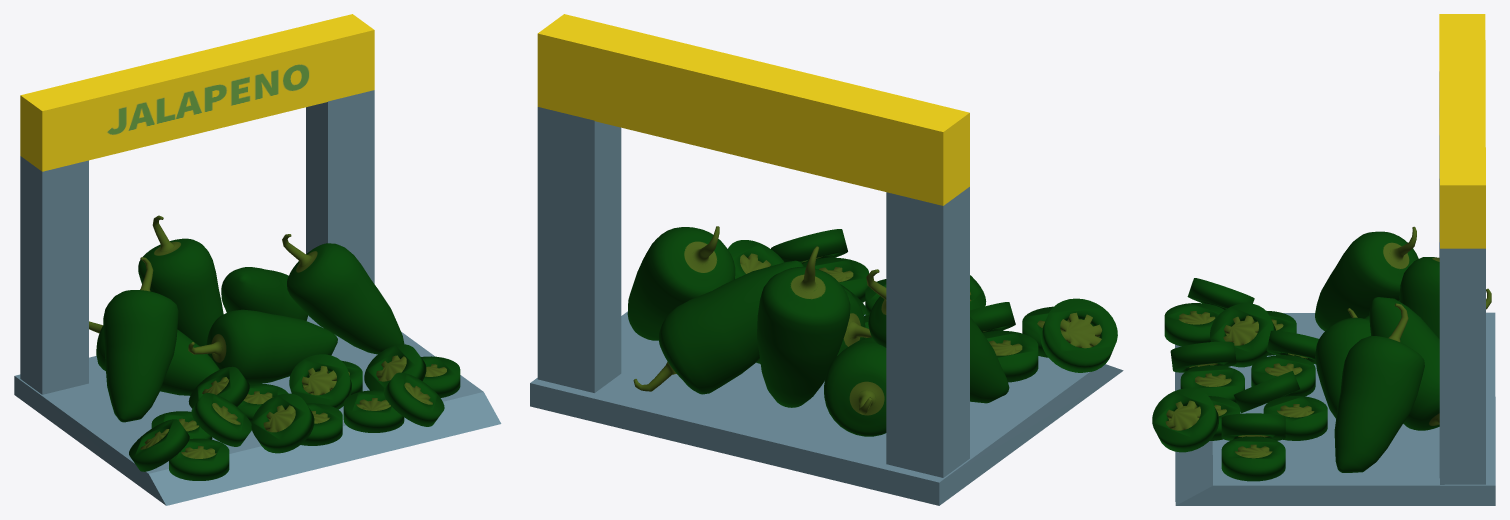
The model's file is Jalapeno.fbx.
The picture shows the model from 3 angles, left to right: view 1: azimuth 30°, elevation 25°; view 2: azimuth 150°, elevation 25°; view 3: azimuth 270°, elevation 25°; orthographic projection. The views are drawn at different scales.
Parts seen in each view (by area): view 1: Cube.036, Jalapeno.007, Jalapeno.006, Jalapeno.002, Jalapeno.004, Jalapeno.005, Cylinder.008, Cylinder.004, Jalapeno.003, Cylinder.006, Cylinder.012, Cylinder.013 (+8 smaller); view 2: Cube.036, Jalapeno.004, Jalapeno.005, Jalapeno.006, Jalapeno.003, Cylinder.014, Jalapeno.007, Cylinder.011, Cylinder.006, Cylinder.005, Cylinder.002, Cylinder.012 (+2 smaller); view 3: Cube.036, Jalapeno.006, Jalapeno.007, Jalapeno.005, Cylinder.006, Cylinder.012, Jalapeno.002, Cylinder.001, Jalapeno.004, Cylinder.003, Cylinder.013, Cylinder.009 (+8 smaller).
Part boxes in pixels (x1,y1,x2,y2): Cube.036: (14,14,501,505); Jalapeno.007: (103,257,178,422); Jalapeno.006: (282,234,404,354); Jalapeno.002: (188,309,337,384); Jalapeno.004: (138,215,223,346); Jalapeno.005: (221,267,307,320); Cylinder.008: (251,393,314,453); Cylinder.004: (289,354,351,409); Jalapeno.003: (89,321,219,395); Cylinder.006: (383,372,444,426); Cylinder.012: (191,393,251,446); Cylinder.013: (169,438,229,480); Cube.036: (530,14,1123,505); Jalapeno.004: (757,246,850,407); Jalapeno.005: (633,260,803,394); Jalapeno.006: (627,226,735,340); Jalapeno.003: (824,337,886,436); Cylinder.014: (1040,298,1117,372); Jalapeno.007: (866,269,1009,403); Cylinder.011: (983,330,1038,382); Cylinder.006: (771,229,847,263); Cylinder.005: (802,257,868,302); Cylinder.002: (728,240,784,278); Cylinder.012: (970,302,1015,332); Cube.036: (1175,14,1495,505); Jalapeno.006: (1334,303,1424,472); Jalapeno.007: (1315,226,1418,330); Jalapeno.005: (1369,297,1439,430); Cylinder.006: (1152,388,1218,452); Cylinder.012: (1210,303,1275,367); Jalapeno.002: (1315,308,1370,418); Cylinder.001: (1221,436,1285,481); Jalapeno.004: (1399,257,1439,338); Cylinder.003: (1263,396,1327,440); Cylinder.013: (1164,303,1224,346); Cylinder.009: (1251,355,1315,397).
Bounding box in the file's own units: 4.14 × 3.45 × 3.36.
Materials: 2 (2 with a texture image).
